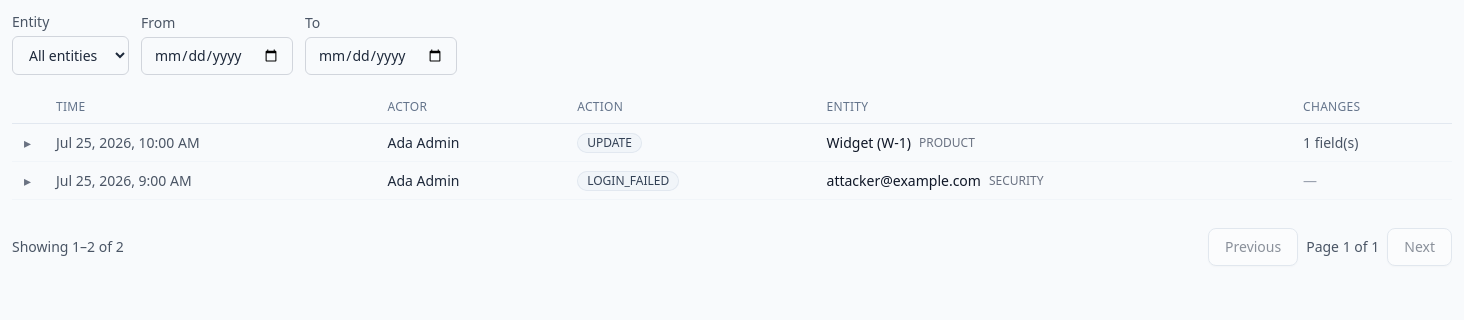
AuditTrailTab (F7) › shows "No field changes" when a security event is expanded
// Second row (security event) — its expand toggle is the 2nd desktop toggle.
Step 1. Click the button named "Expand row" → x=28, y=180, box [20,170,35,190]
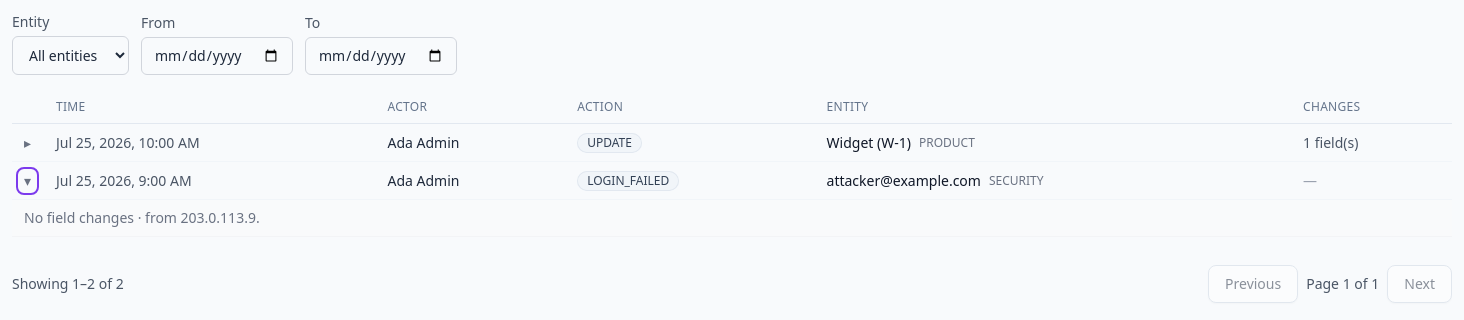
Expected: the text "No field changes · from 203.0.113.9." is shown, [24,208,260,227]
